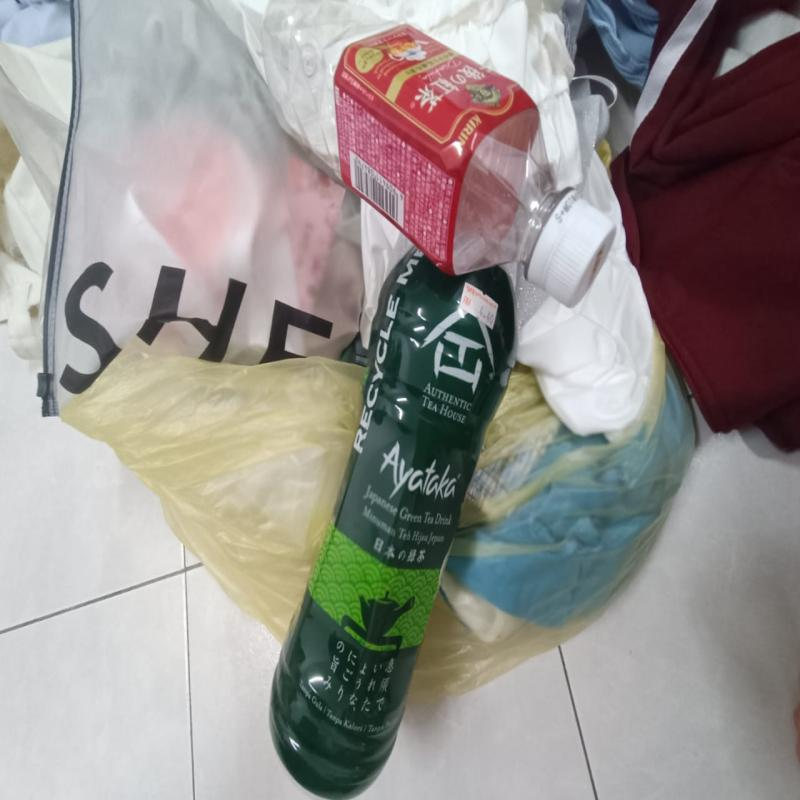botella: (267, 254, 517, 800), (257, 3, 621, 308)
